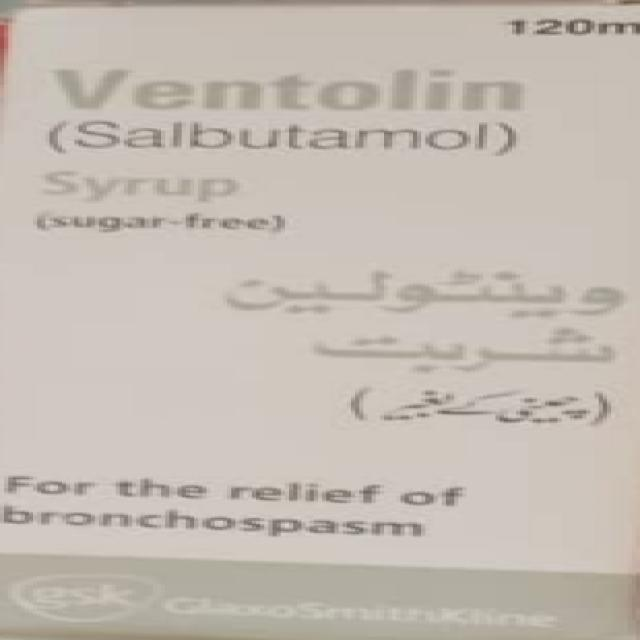drug-name: (51, 62, 528, 116)
